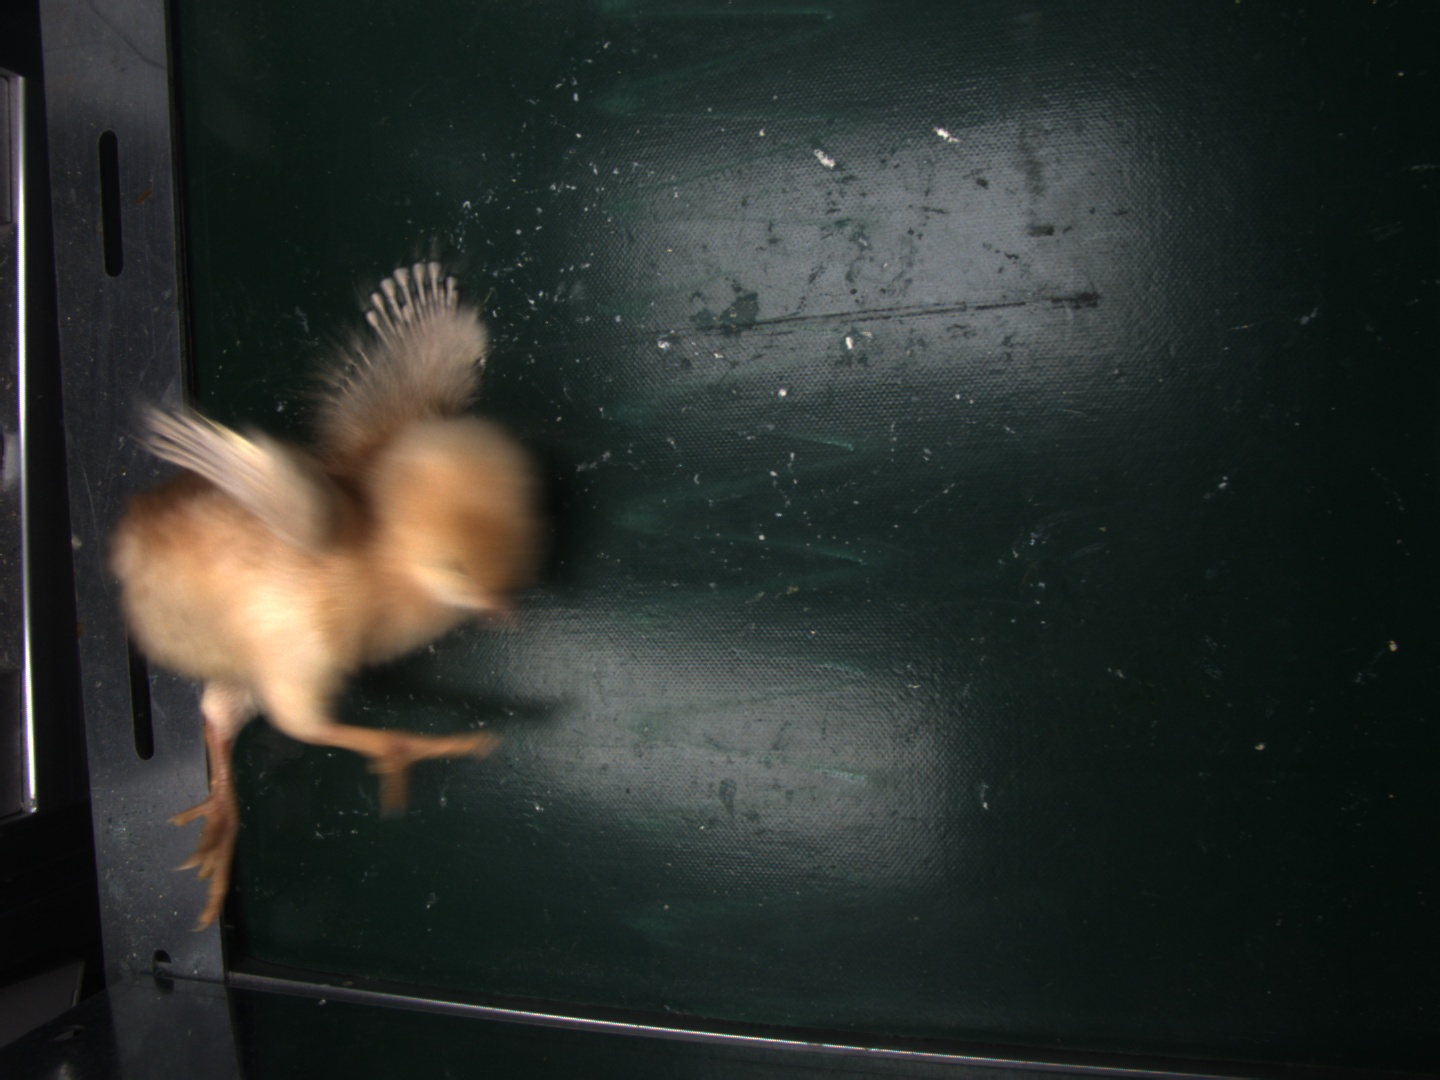female: (365, 262, 457, 341)
